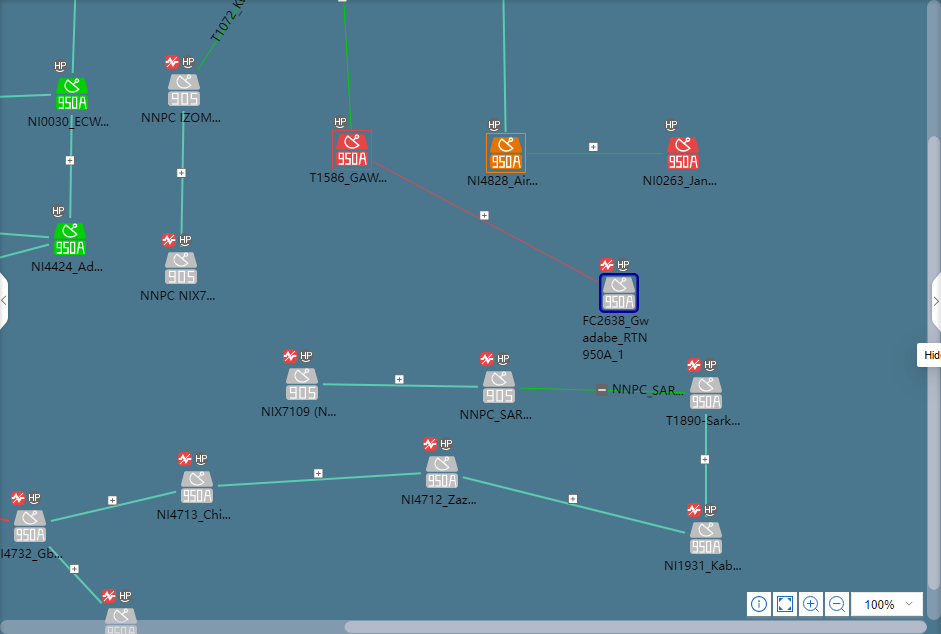Link_Blue: (463, 476, 685, 535), (50, 490, 176, 523), (218, 472, 421, 488), (48, 546, 103, 605), (0, 243, 50, 259), (501, 0, 507, 132), (323, 383, 478, 388), (180, 111, 185, 236), (69, 115, 74, 219), (71, 0, 76, 74), (0, 232, 49, 239), (705, 413, 708, 505), (0, 93, 51, 98)
Link_Green: (195, 0, 248, 72), (342, 3, 353, 129), (527, 151, 664, 155)
Link_Red: (374, 159, 599, 284), (520, 387, 686, 395)
RTN_Gray: (600, 276, 637, 311), (426, 457, 458, 489), (181, 472, 212, 504), (14, 511, 45, 543), (168, 74, 199, 106), (165, 252, 196, 284), (690, 523, 721, 555), (690, 378, 721, 410), (483, 372, 514, 404), (286, 369, 317, 400), (105, 610, 136, 633)
RTN_Green: (54, 223, 85, 255), (56, 78, 86, 109)
RTN_Orange: (487, 134, 523, 171)
RTN_Red: (336, 133, 368, 165), (667, 137, 698, 169)
